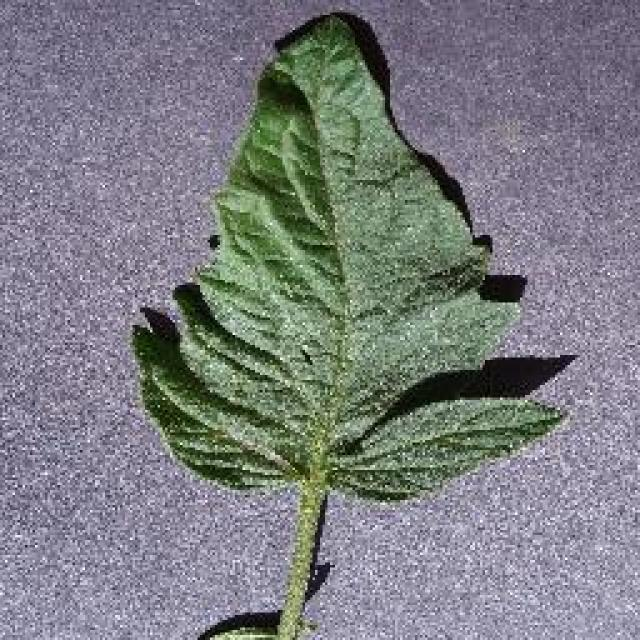Tomato___healthy: (127, 15, 580, 636)
